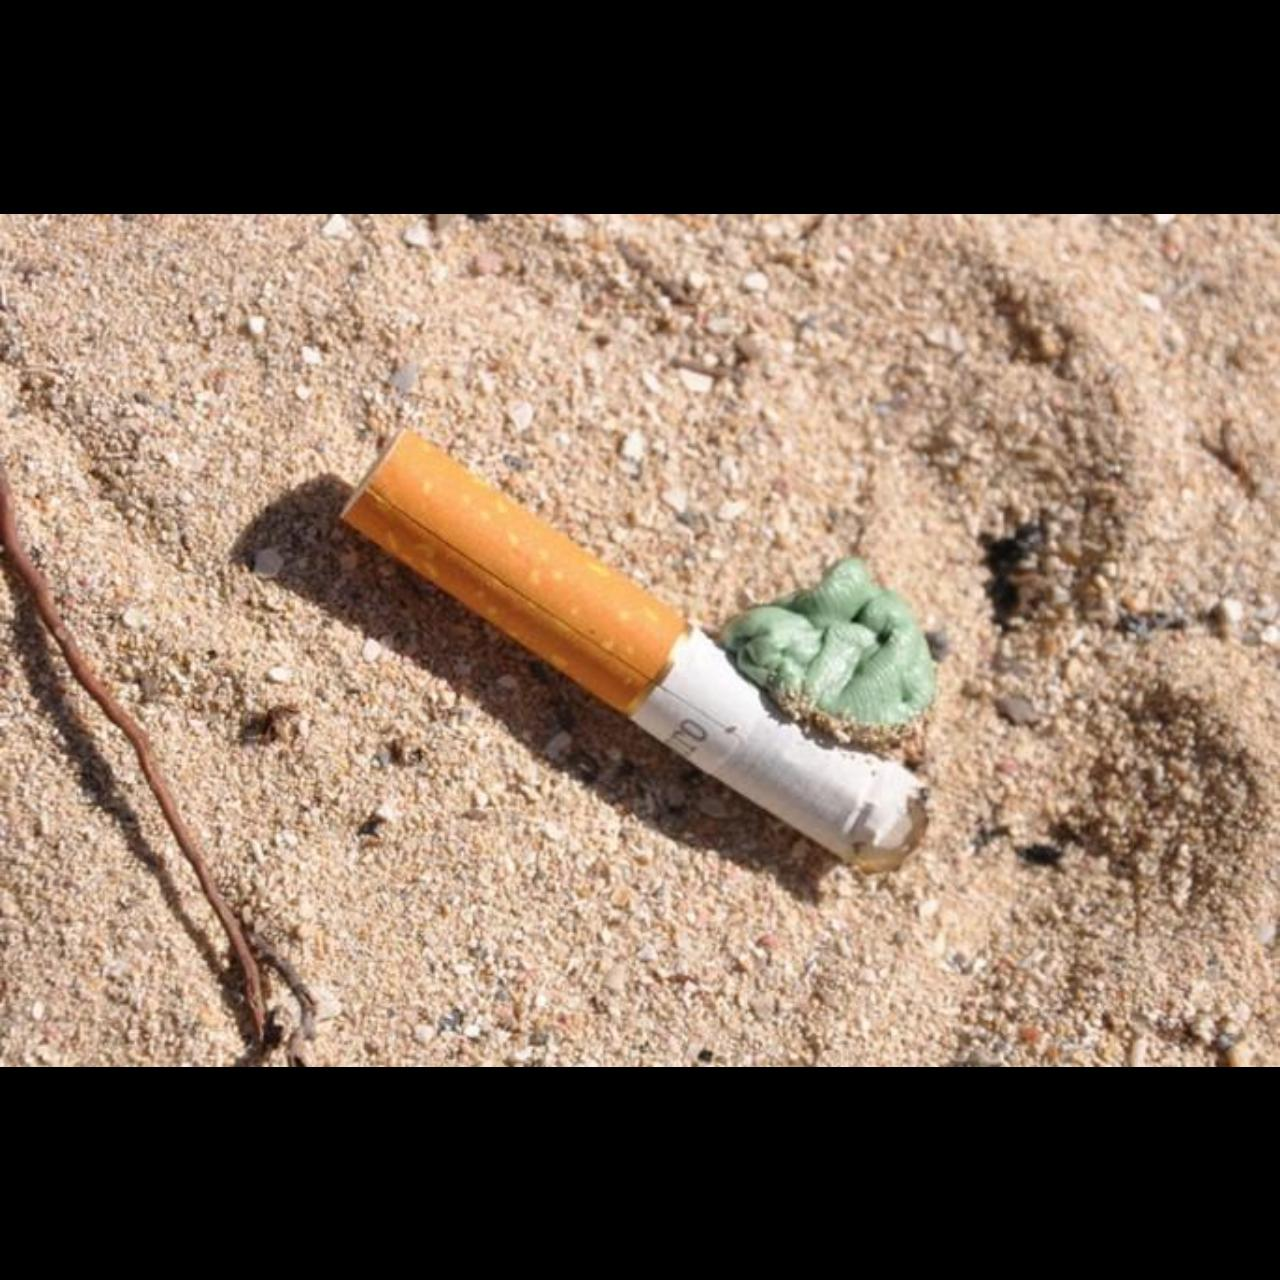cigarettes_butts: (340, 431, 931, 877)
